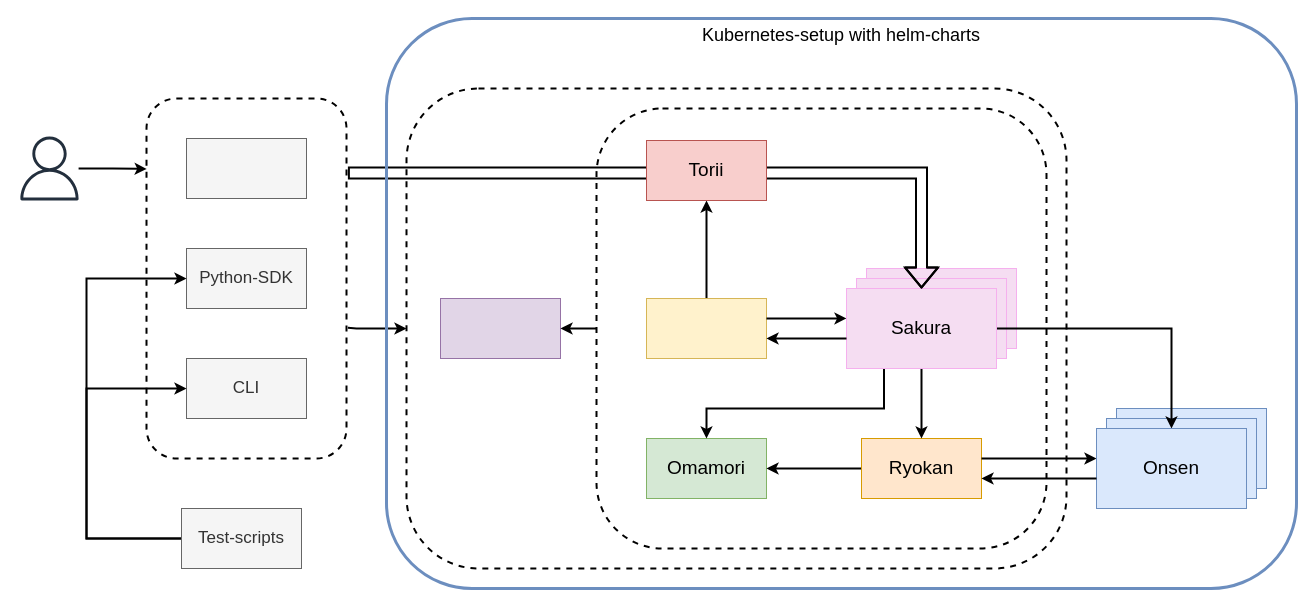
This 1315x607 diagram has some shape labels left out. Each missing label, with the centre of its shape:
Dashboard: (x=246, y=168)
Hanami: (x=706, y=328)
Miko: (x=500, y=328)
User: (x=49, y=168)
